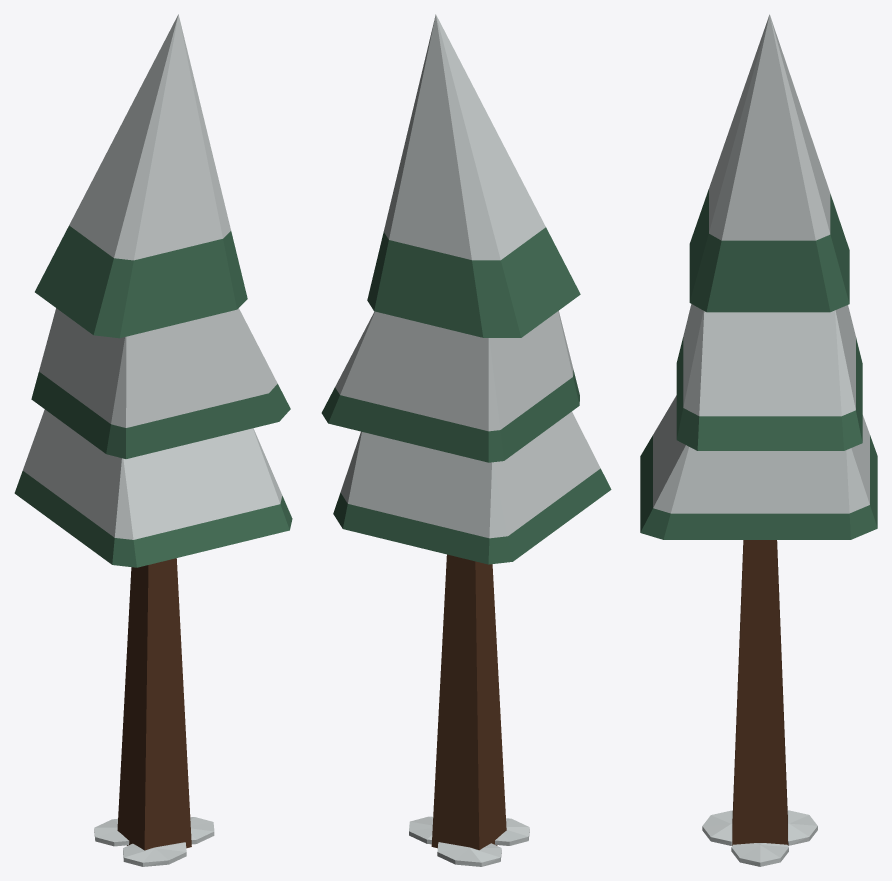
The model's file is tree_pineTallA_winter.glb.
3 renders of one model, left to right at view 1: azimuth 30°, elevation 25°; view 2: azimuth 150°, elevation 25°; view 3: azimuth 270°, elevation 25°, orthographic. The views are drawn at different scales.
Parts seen in each view (by area): view 1: geometry; view 2: geometry; view 3: geometry.
Boxes of the visible parts, <box> form: geometry: <box>14,14,292,866</box>; geometry: <box>321,14,611,866</box>; geometry: <box>640,14,877,866</box>.
Size of the model in its own units: 0.3863 by 1.53 by 0.392.
